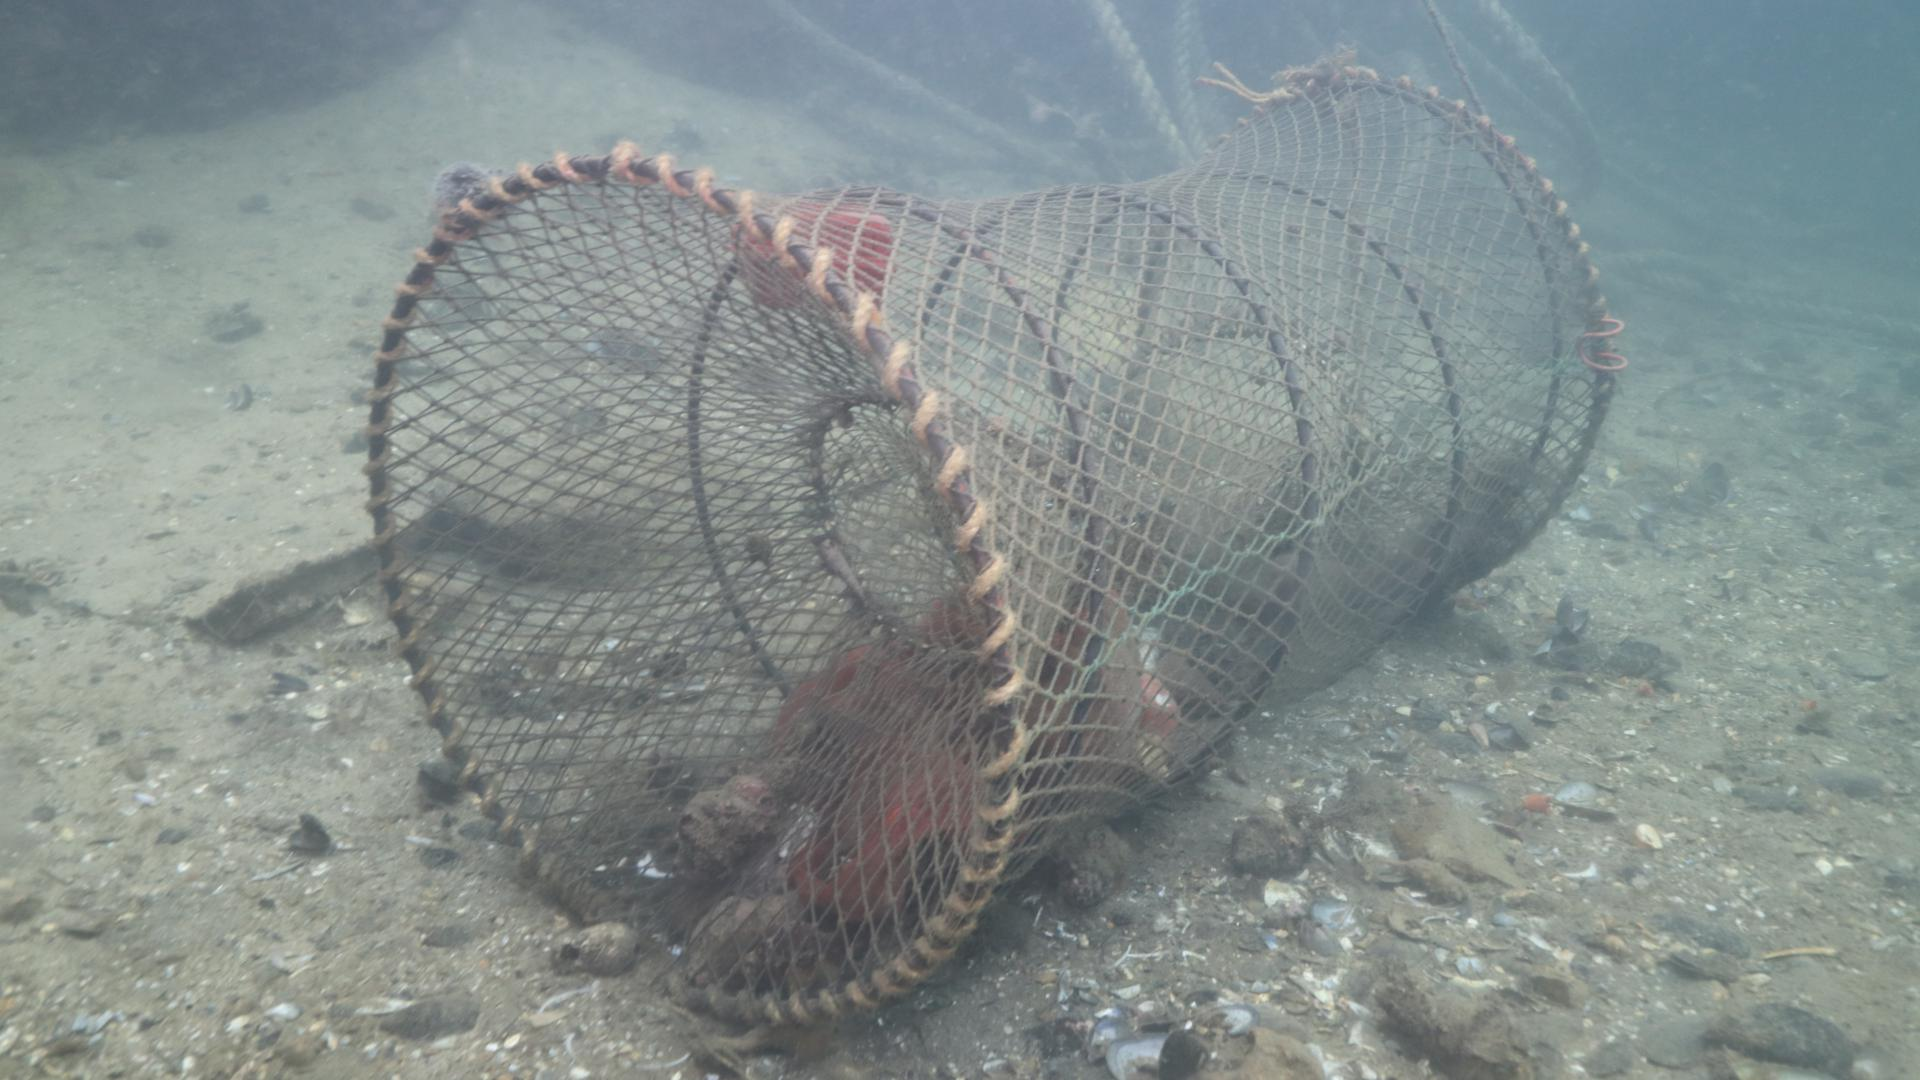bundle of ropes: (778, 0, 1920, 347)
spring fish trap: (360, 65, 1619, 1026)
